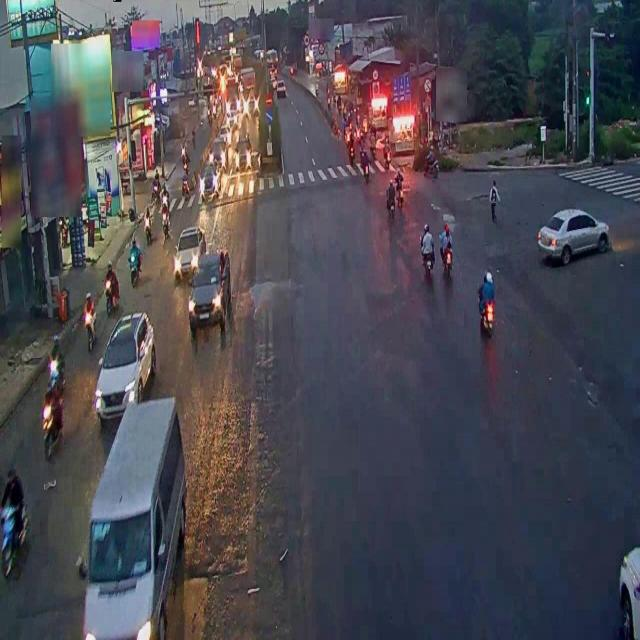car: (92, 304, 156, 419), (188, 246, 230, 333)
motorcycle: (0, 463, 29, 578), (474, 258, 502, 345), (436, 211, 458, 295), (417, 218, 442, 287), (41, 378, 63, 454), (386, 169, 404, 227), (101, 258, 119, 311), (126, 228, 142, 287), (83, 290, 97, 347), (384, 179, 400, 227)
truck: (75, 391, 188, 640)
